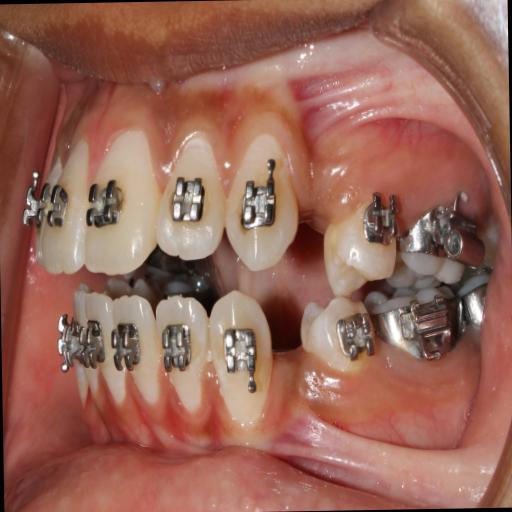correct_brace: (234, 152, 284, 236), (218, 322, 264, 401), (82, 174, 133, 232), (332, 308, 382, 366), (166, 170, 207, 229), (156, 319, 195, 380)
incorrect_brace: (154, 116, 228, 270), (152, 288, 210, 422)
